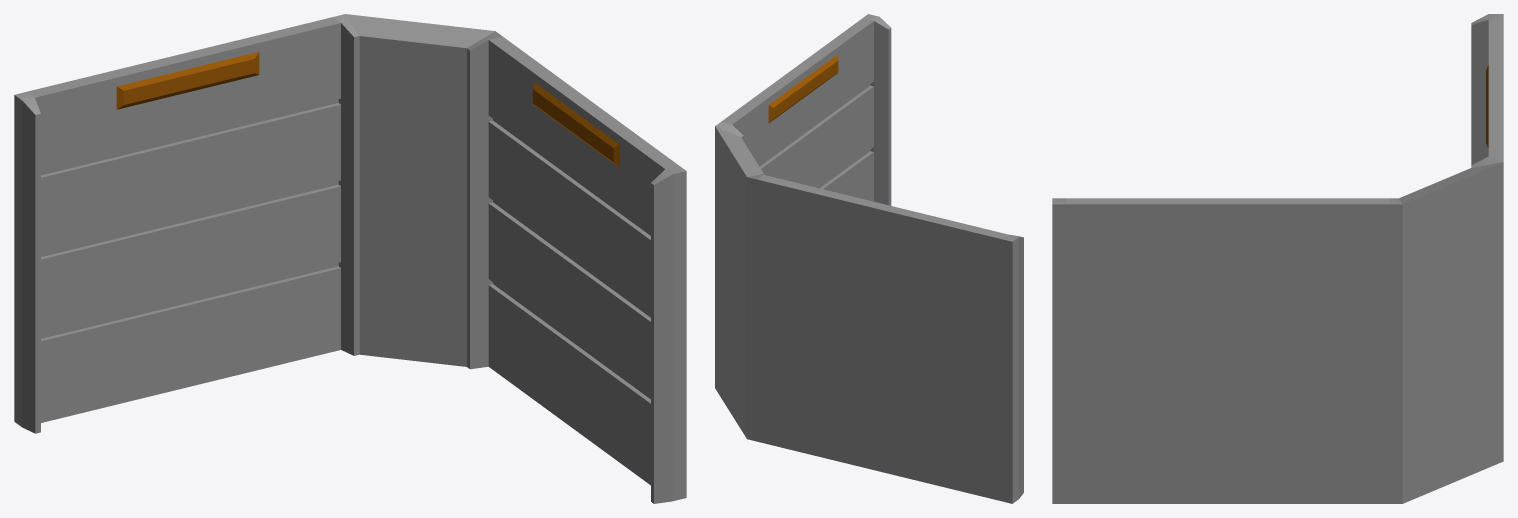
The picture shows the model from 3 angles, left to right: view 1: azimuth 30°, elevation 25°; view 2: azimuth 150°, elevation 25°; view 3: azimuth 270°, elevation 25°; orthographic projection. The views are drawn at different scales.
Visible parts, largest first — view 1: Pared 016; view 2: Pared 016; view 3: Pared 016.
Part boxes in pixels (x1,y1,x2,y2): Pared 016: (14, 14, 686, 503); Pared 016: (715, 14, 1023, 503); Pared 016: (1052, 14, 1503, 503).
Size of the model in its own units: 235 by 173 by 236.
